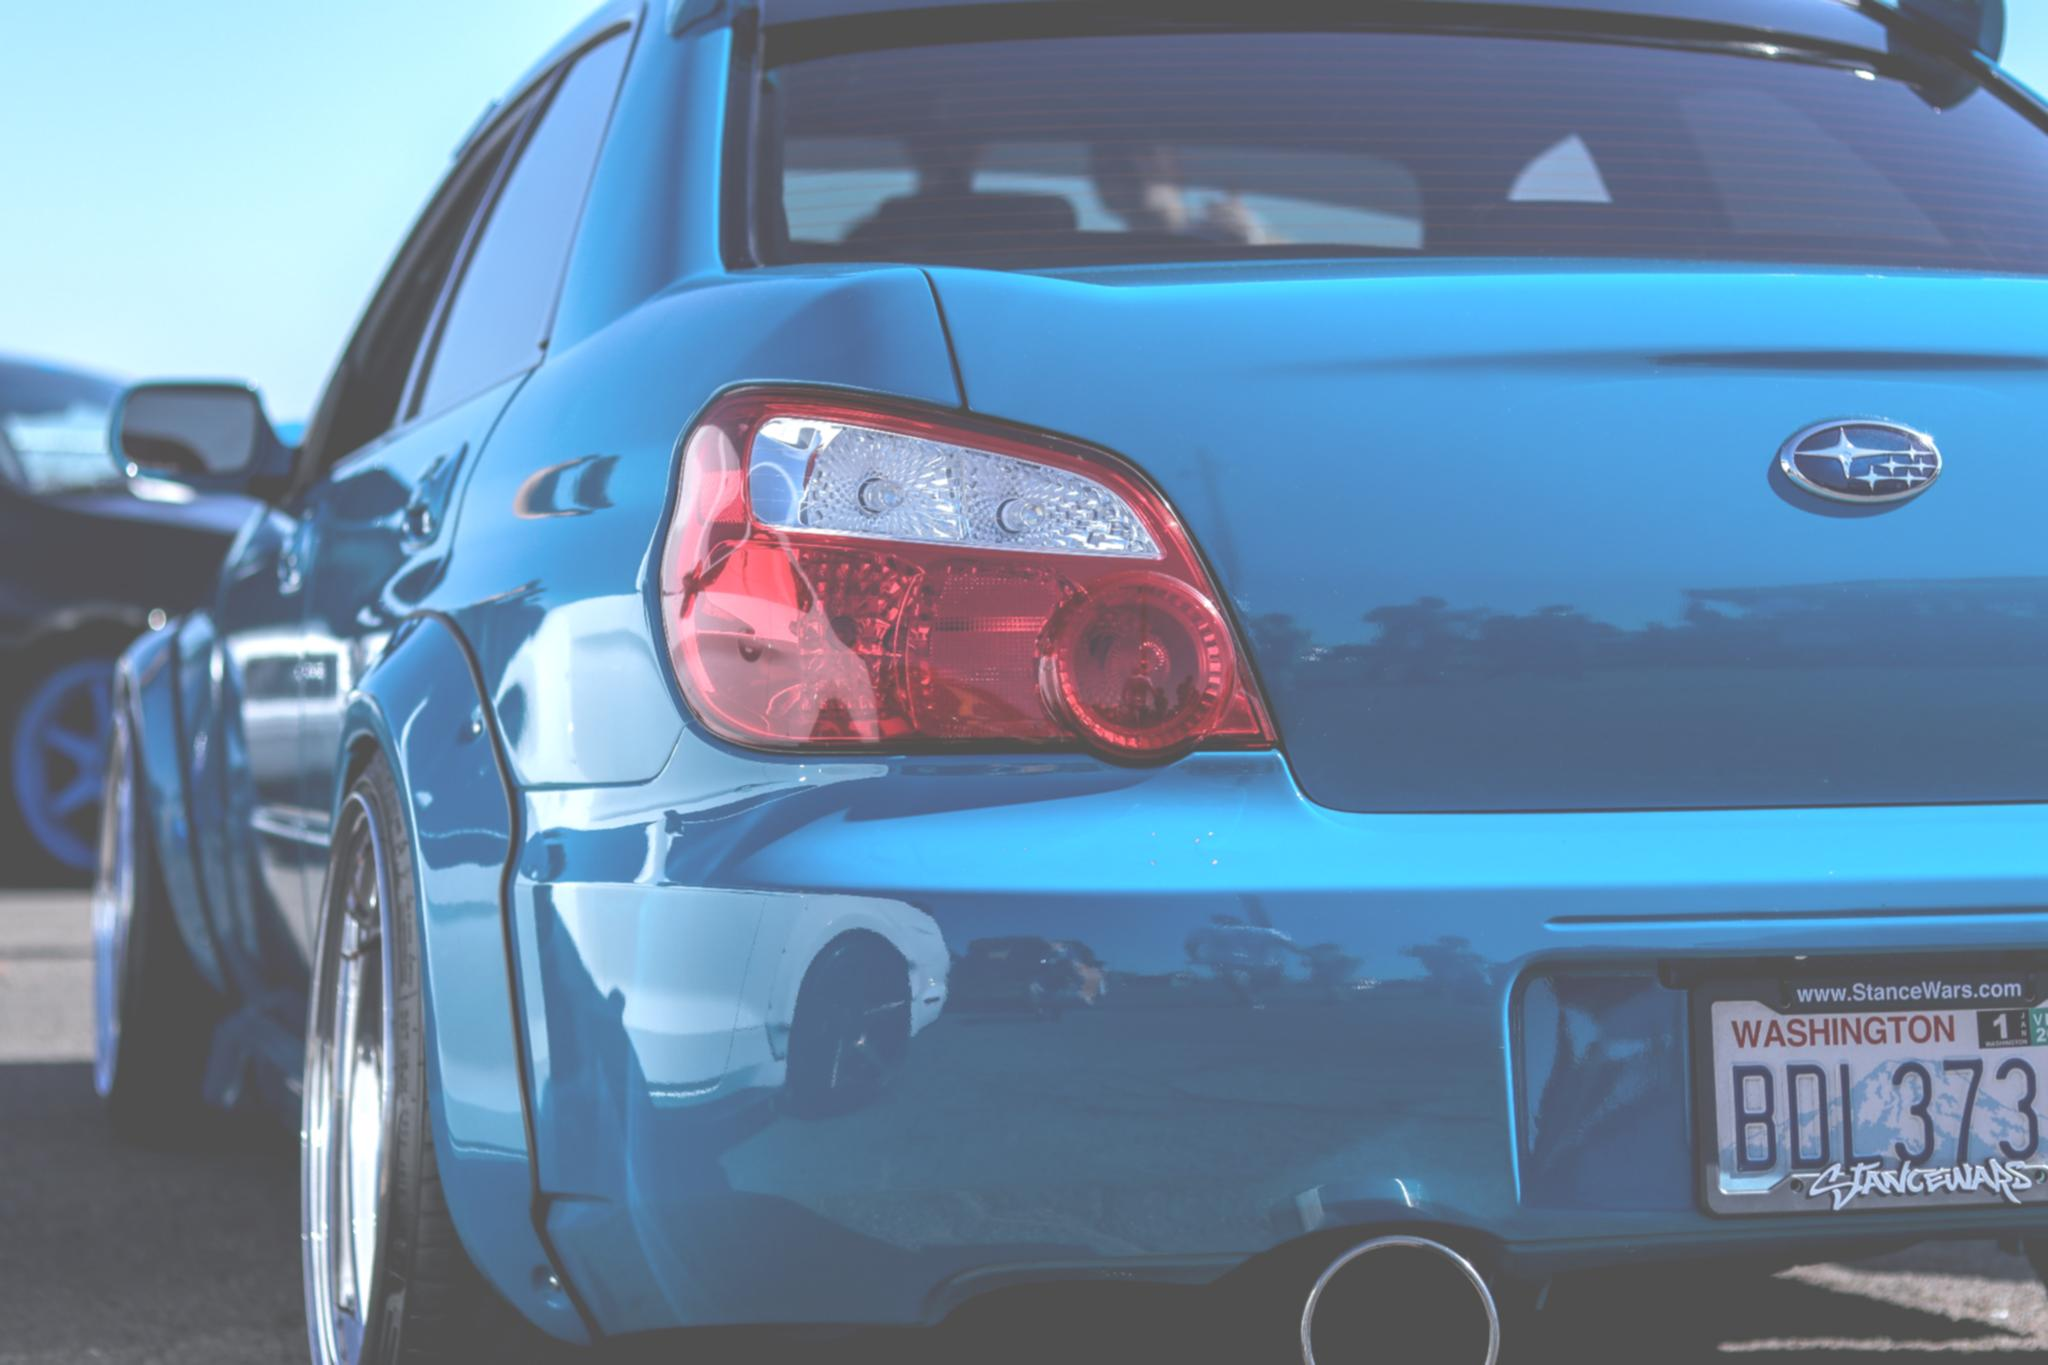subaru: (1715, 367, 1981, 558)
